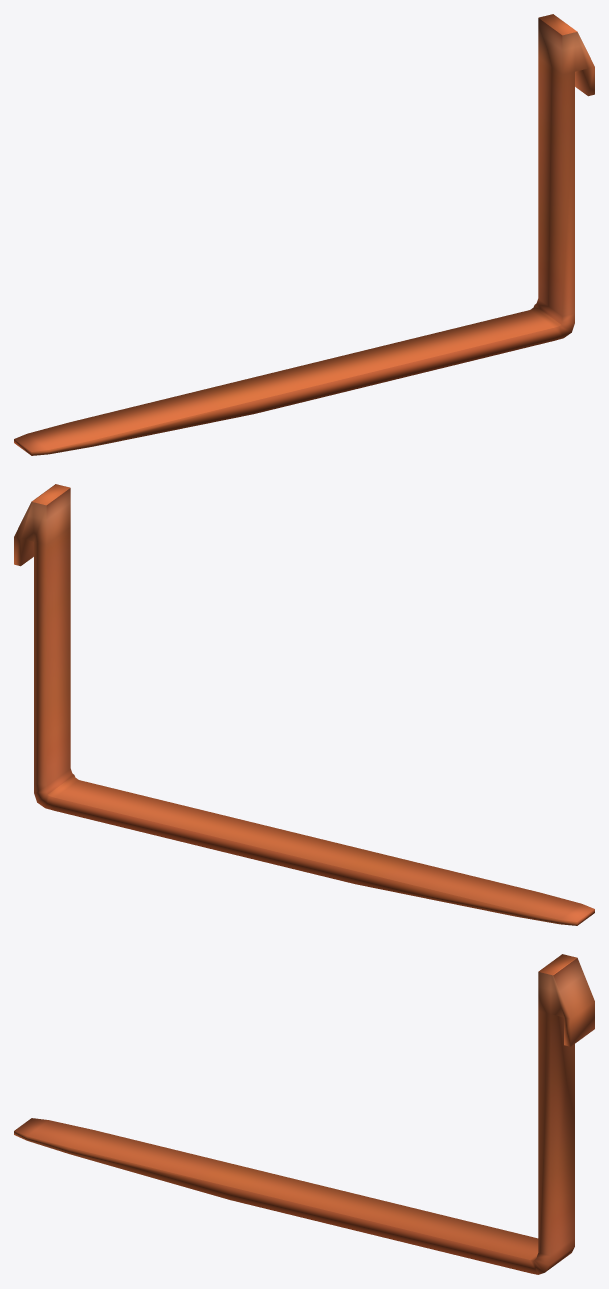
The model's file is fork.glb.
3 views of the same model, one above another, from view 1: azimuth 30°, elevation 25°; view 2: azimuth 150°, elevation 25°; view 3: azimuth 330°, elevation 25° (orthographic).
Visible parts, largest first — view 1: fork; view 2: fork; view 3: fork.
Part boxes in pixels (bbox=[...]): fork: bbox=[14, 14, 594, 455]; fork: bbox=[14, 484, 594, 925]; fork: bbox=[14, 954, 594, 1274].
Bounding box in the file's own units: 1.33 × 0.6908 × 0.112.
1 material, 1 textured.
